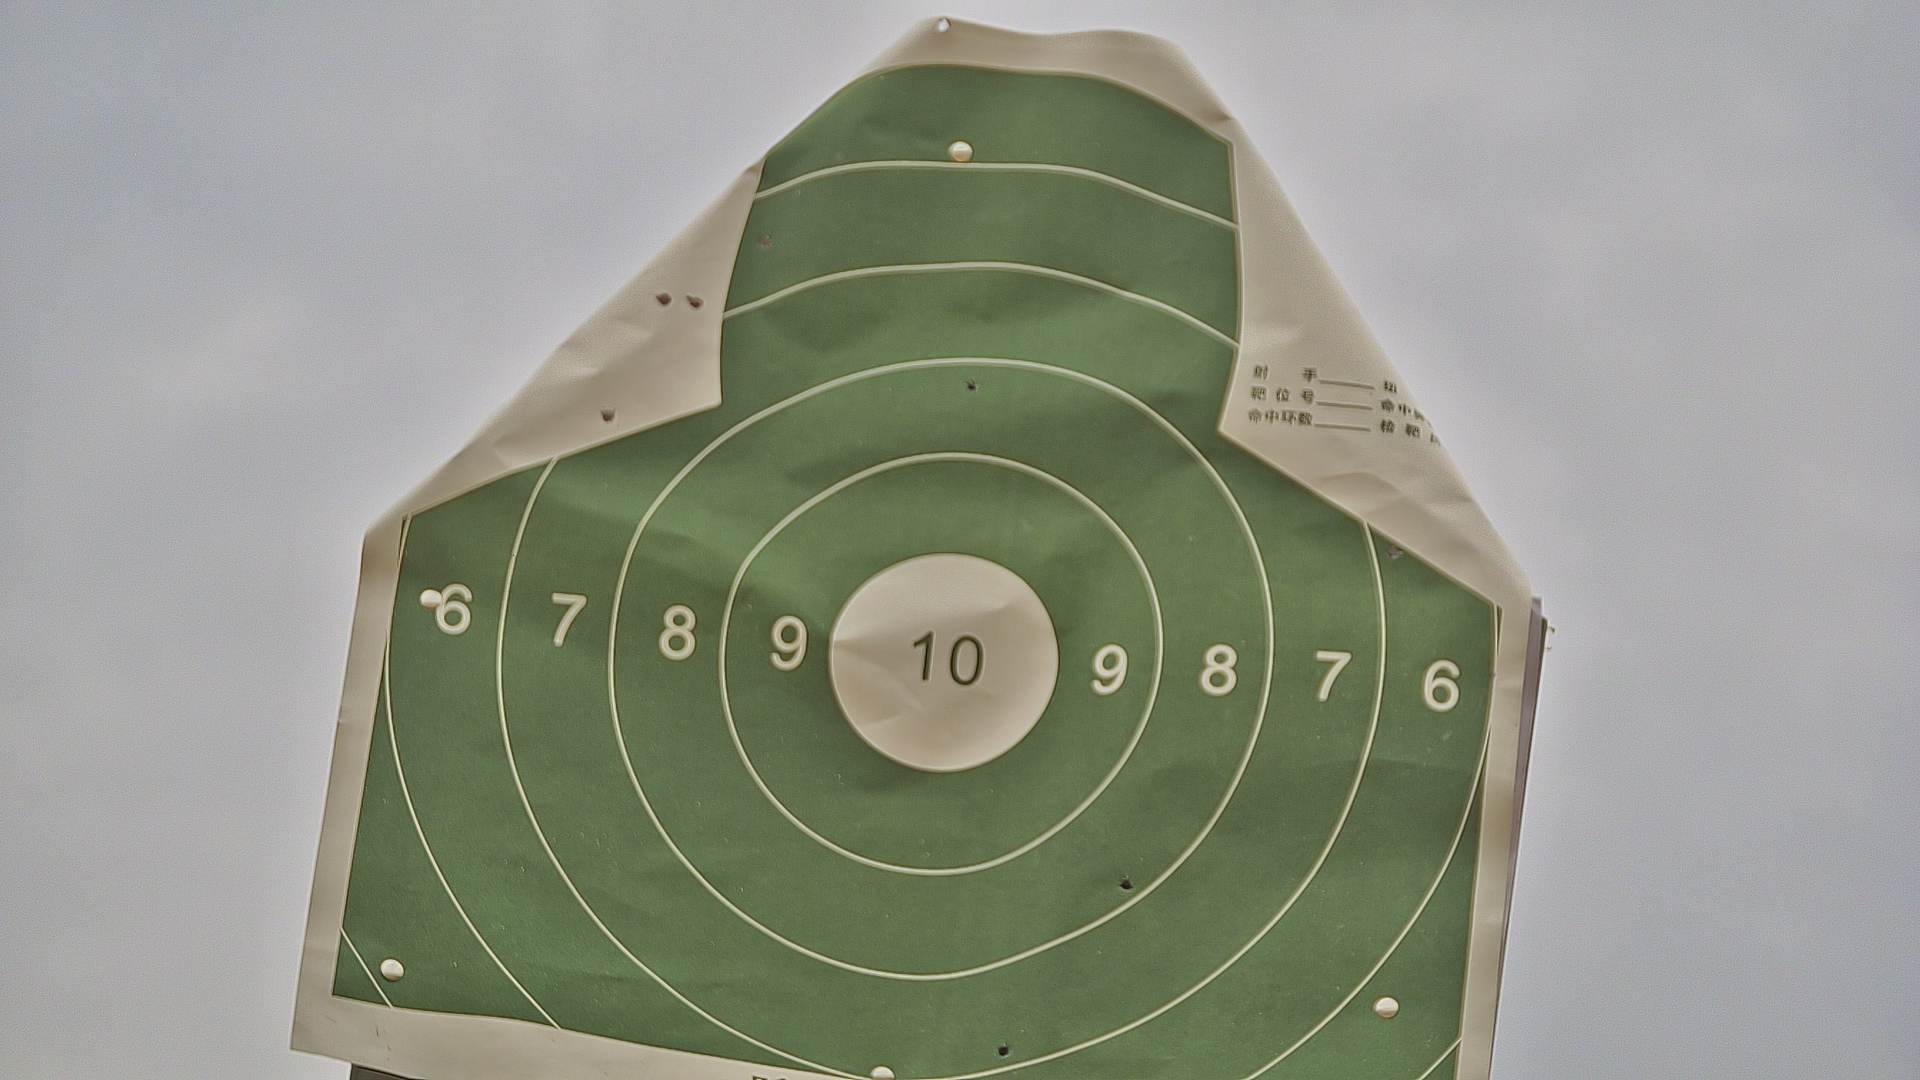hole: (1386, 543, 1402, 558), (1121, 878, 1134, 893), (964, 378, 976, 394), (996, 1042, 1009, 1055), (758, 235, 771, 247)
kernel: (938, 655, 944, 661)
target: (324, 67, 1505, 1080)
ten: (825, 555, 1062, 773)
